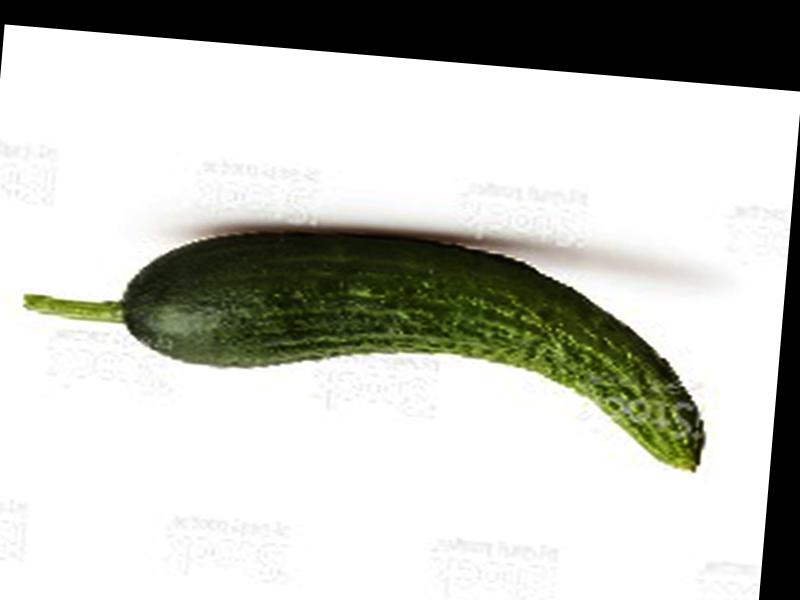Cucumber: (13, 206, 719, 470)
